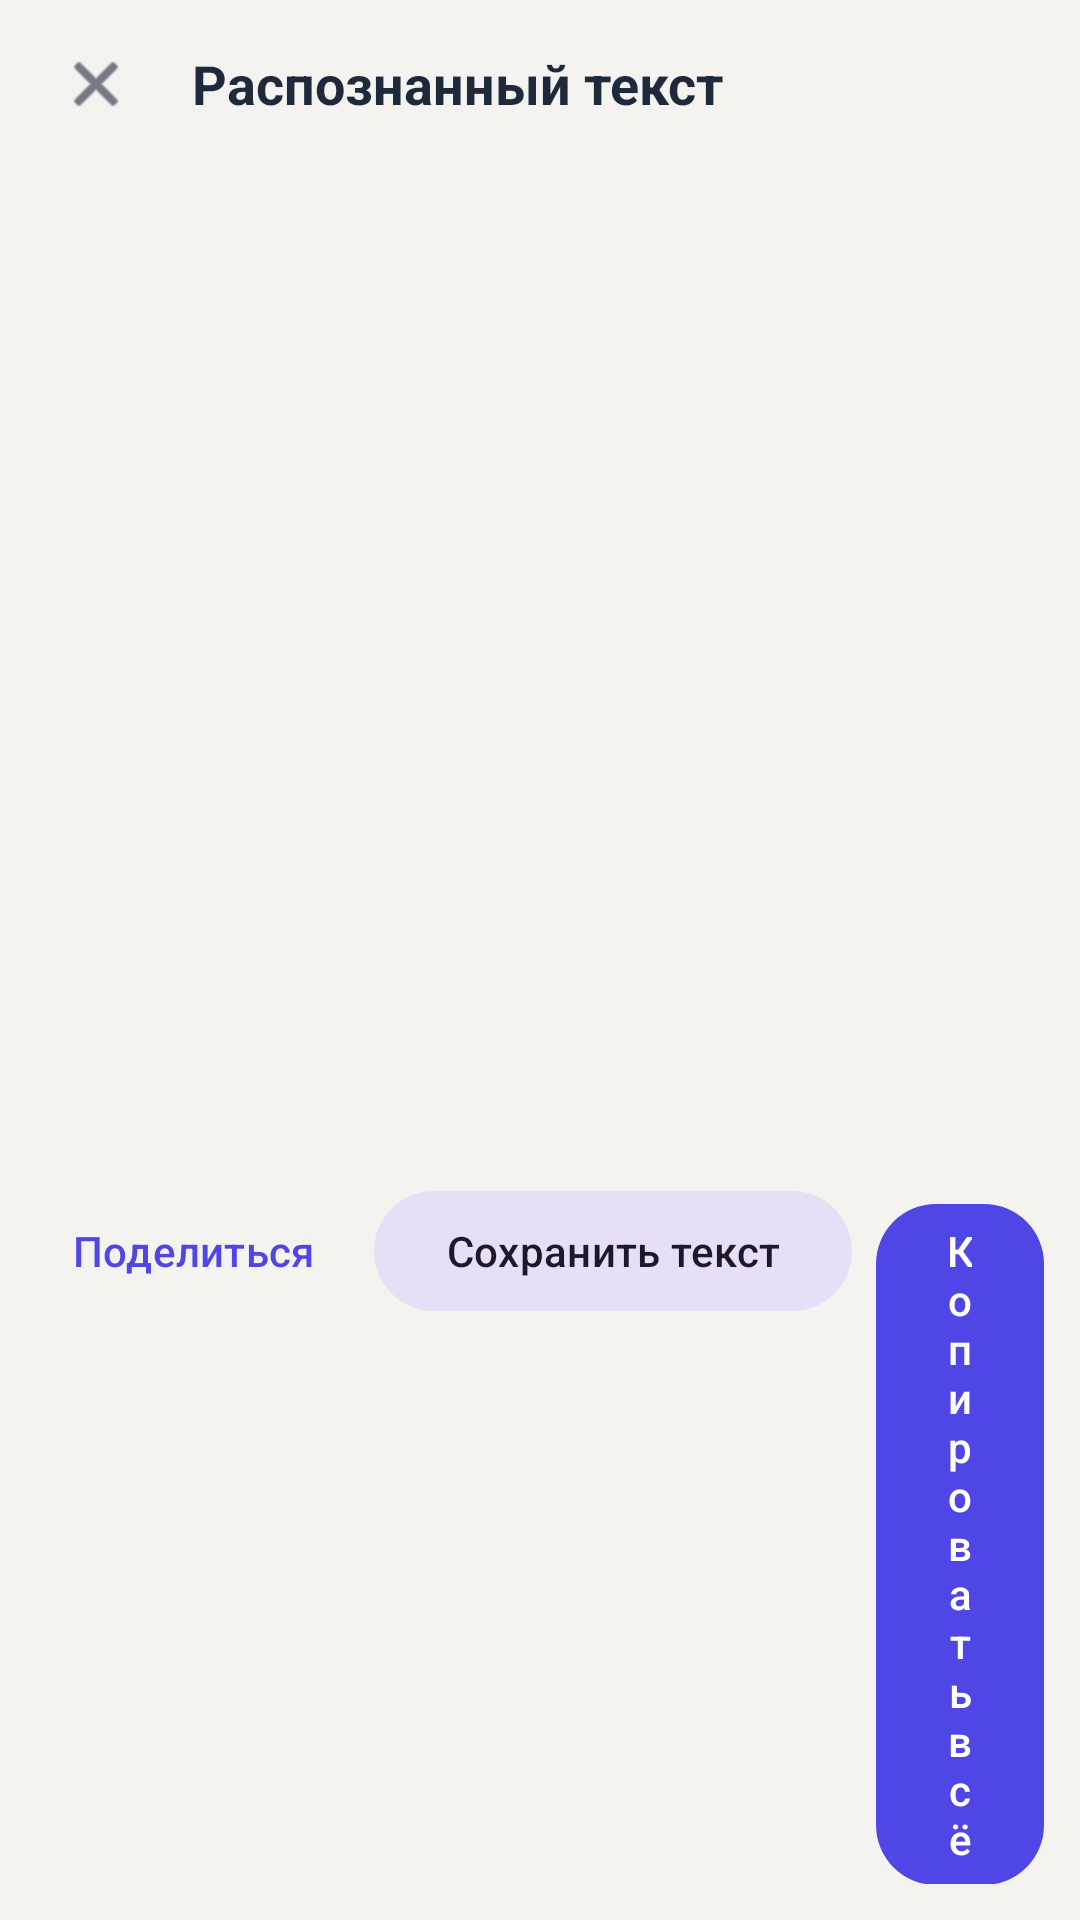

Icon bounding boxes for this 1080×1920 phone screenshot, format (x1, y1, x2, y2):
Назад: (73, 61, 119, 107)
